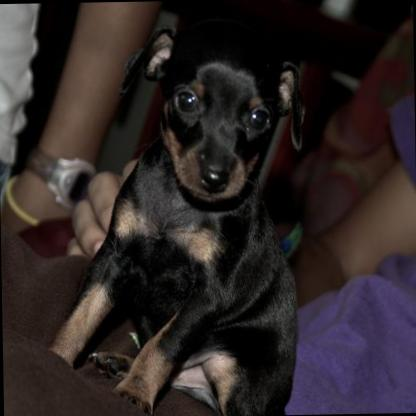miniature_pinscher: (42, 22, 308, 415)
